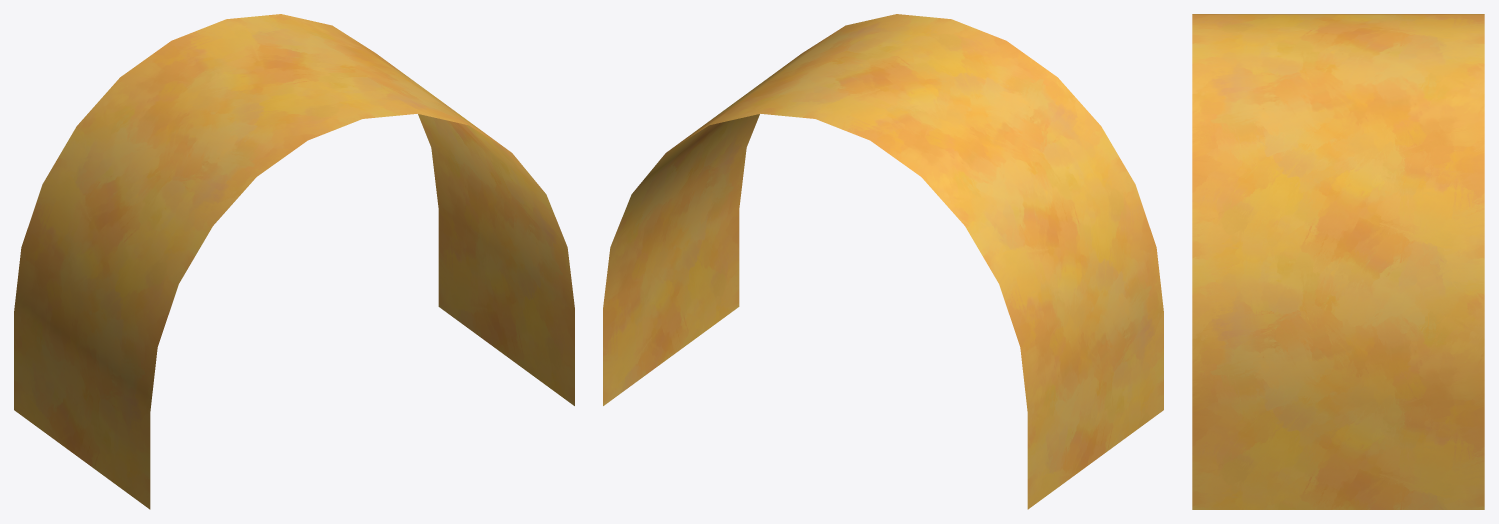
File: Arch.fbx
3 views of the same model, side by side, from view 1: azimuth 30°, elevation 25°; view 2: azimuth 150°, elevation 25°; view 3: azimuth 270°, elevation 25° (orthographic). The views are drawn at different scales.
Parts seen in each view (by area): view 1: Arch; view 2: Arch; view 3: Arch.
Part boxes in pixels (x1=…): Arch: x1=14, y1=14, x2=574, y2=509; Arch: x1=603, y1=14, x2=1163, y2=509; Arch: x1=1192, y1=14, x2=1484, y2=509.
Size of the model in its own units: 359 by 274 by 200.
